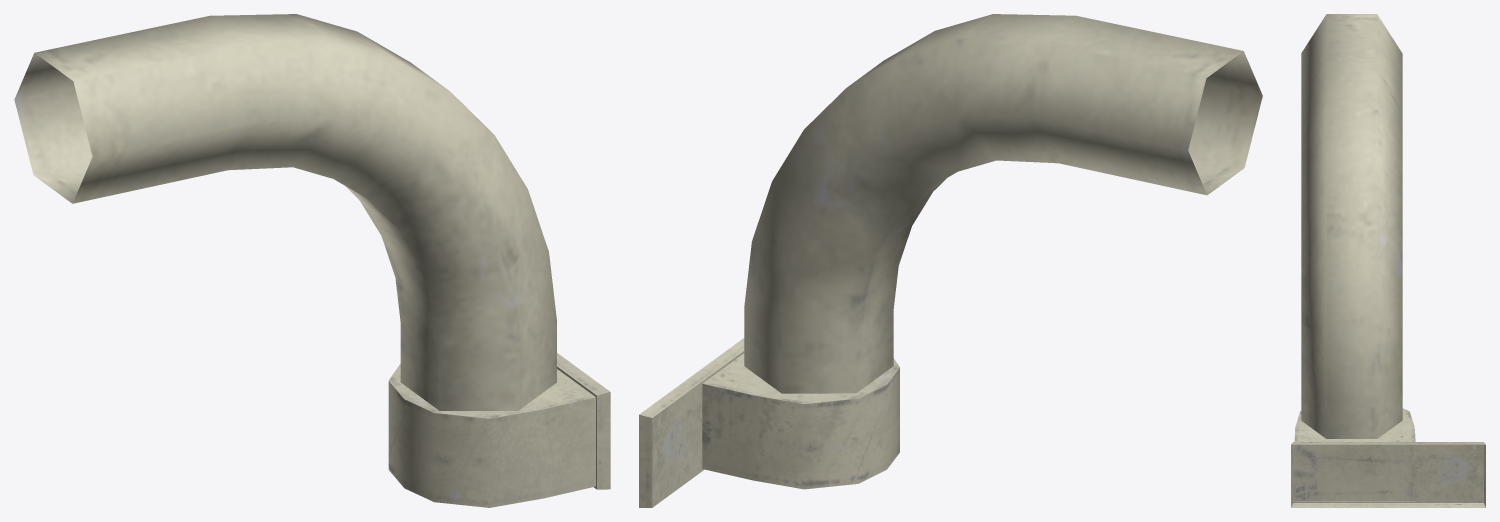
The model's file is SM_Wall_Electrical_Wire_Casing_01d.fbx.
3 renders of one model, left to right at view 1: azimuth 30°, elevation 25°; view 2: azimuth 150°, elevation 25°; view 3: azimuth 270°, elevation 25°, orthographic. The views are drawn at different scales.
Parts seen in each view (by area): view 1: SM_Wall_Electrical_Wire_Casing_01d_LOD0; view 2: SM_Wall_Electrical_Wire_Casing_01d_LOD0; view 3: SM_Wall_Electrical_Wire_Casing_01d_LOD0.
Part boxes in pixels (left/top/right/bottom): SM_Wall_Electrical_Wire_Casing_01d_LOD0: left=14, top=14, right=610, bottom=507; SM_Wall_Electrical_Wire_Casing_01d_LOD0: left=639, top=14, right=1262, bottom=507; SM_Wall_Electrical_Wire_Casing_01d_LOD0: left=1291, top=14, right=1485, bottom=507.
Bounding box in the file's own units: 8.66 × 4.41 × 8.3.
Materials: 1 (1 with a texture image).
